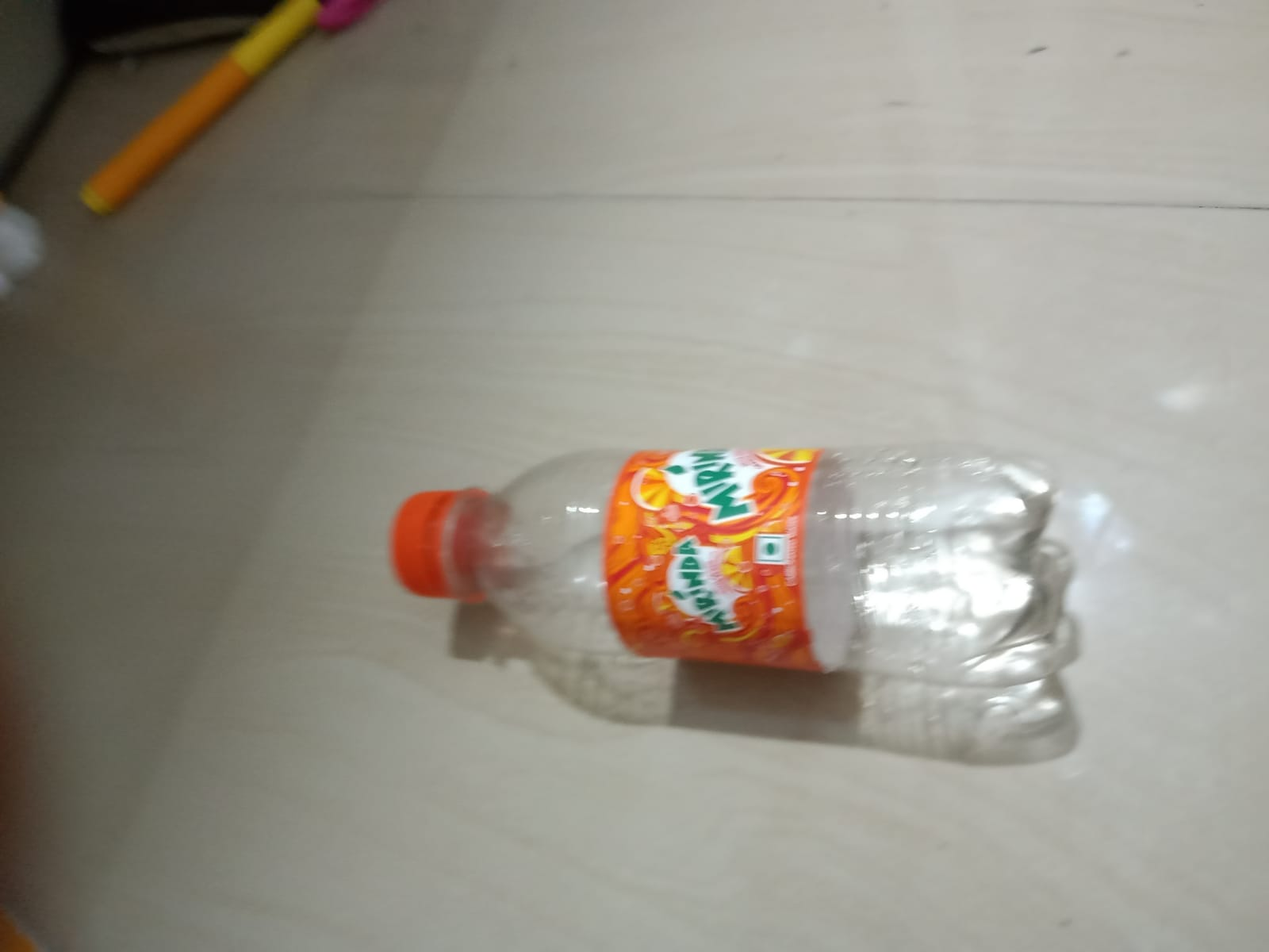plastic: (290, 403, 1269, 725)
